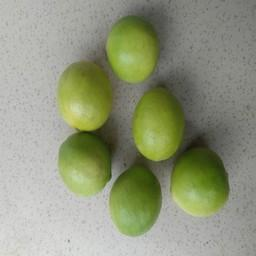Good_lime: (168, 143, 231, 218), (131, 85, 188, 164), (54, 60, 115, 131), (109, 164, 165, 241), (104, 13, 161, 85), (55, 132, 111, 200)
